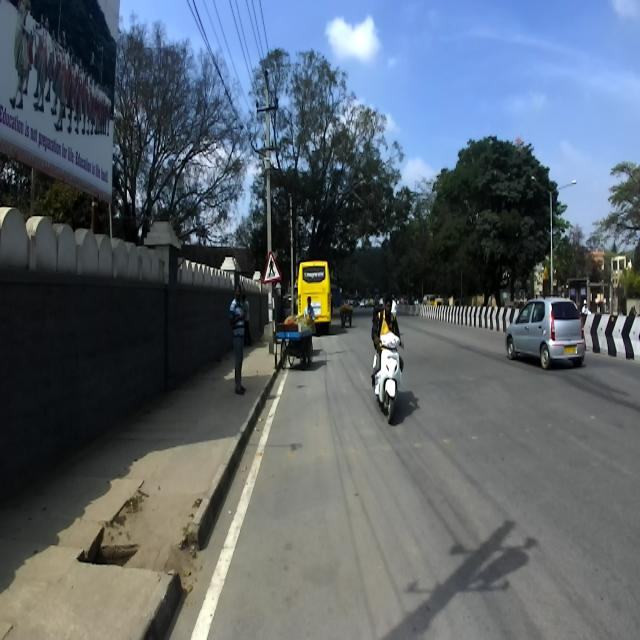car ahead at: (502, 292, 583, 369)
motorcycle ahead at: (366, 329, 404, 424)
person ahead at: (224, 282, 254, 403)
sign board ahead at: (258, 256, 282, 290)
